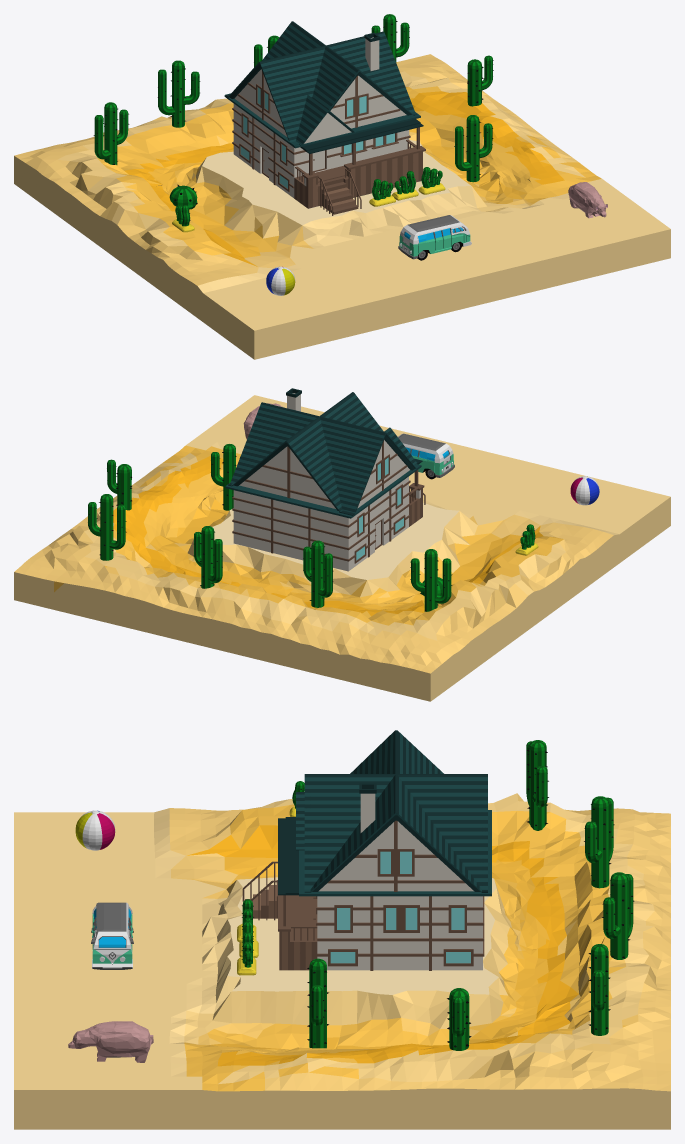
3 renders of one model, top to bottom at view 1: azimuth 30°, elevation 25°; view 2: azimuth 150°, elevation 25°; view 3: azimuth 270°, elevation 25°, orthographic. The views are drawn at different scales.
Parts seen in each view (by area): view 1: Cube.001, Cube.793, VEHICLES_VAN, Cylinder.037, Cylinder.044, Cylinder.045, Cylinder.038, ANIMAL_HIPOPOTAMO, Cylinder.042, OBJRANDOM_BEACHBALL, Cylinder.039, Cylinder.041 (+2 smaller); view 2: Cube.001, Cube.793, Cylinder.042, Cylinder.045, VEHICLES_VAN, Cylinder.044, Cylinder.043, Cylinder.037, Cylinder.038, OBJRANDOM_BEACHBALL; view 3: Cube.001, Cube.793, VEHICLES_VAN, ANIMAL_HIPOPOTAMO, Cylinder.043, Cylinder.044, Cylinder.045, Cylinder.042, Cylinder.037, OBJRANDOM_BEACHBALL, Cylinder.038, Cylinder.041.
Part boxes in pixels (x1,y1,x2,y2): Cube.001: (14,54,670,359); Cube.793: (224,21,425,215); VEHICLES_VAN: (398,215,471,260); Cylinder.037: (454,115,493,182); Cylinder.044: (157,60,200,127); Cylinder.045: (93,102,129,164); Cylinder.038: (467,55,493,106); ANIMAL_HIPOPOTAMO: (568,182,607,218); Cylinder.042: (371,14,409,62); OBJRANDOM_BEACHBALL: (266,266,295,295); Cylinder.039: (369,179,395,206); Cylinder.041: (418,167,445,194); Cube.001: (14,395,670,701); Cube.793: (225,388,425,571); Cylinder.042: (88,494,126,560); Cylinder.045: (410,549,452,611); VEHICLES_VAN: (398,433,454,479); Cylinder.044: (303,540,333,607); Cylinder.043: (193,526,222,588); Cylinder.037: (211,444,240,510); Cylinder.038: (107,459,131,510); OBJRANDOM_BEACHBALL: (570,476,599,505); Cube.001: (14,793,670,1129); Cube.793: (242,730,491,970); VEHICLES_VAN: (91,902,133,969); ANIMAL_HIPOPOTAMO: (68,1021,153,1062); Cylinder.043: (602,872,634,959); Cylinder.044: (584,796,614,888); Cylinder.045: (526,740,548,830); Cylinder.042: (588,944,610,1035); Cylinder.037: (307,958,328,1048); OBJRANDOM_BEACHBALL: (75,810,115,850); Cylinder.038: (447,988,471,1050); Cylinder.041: (237,932,256,975).
Size of the model in its own units: 4002 by 1650 by 4001.
Materials: 29 (4 with a texture image).
